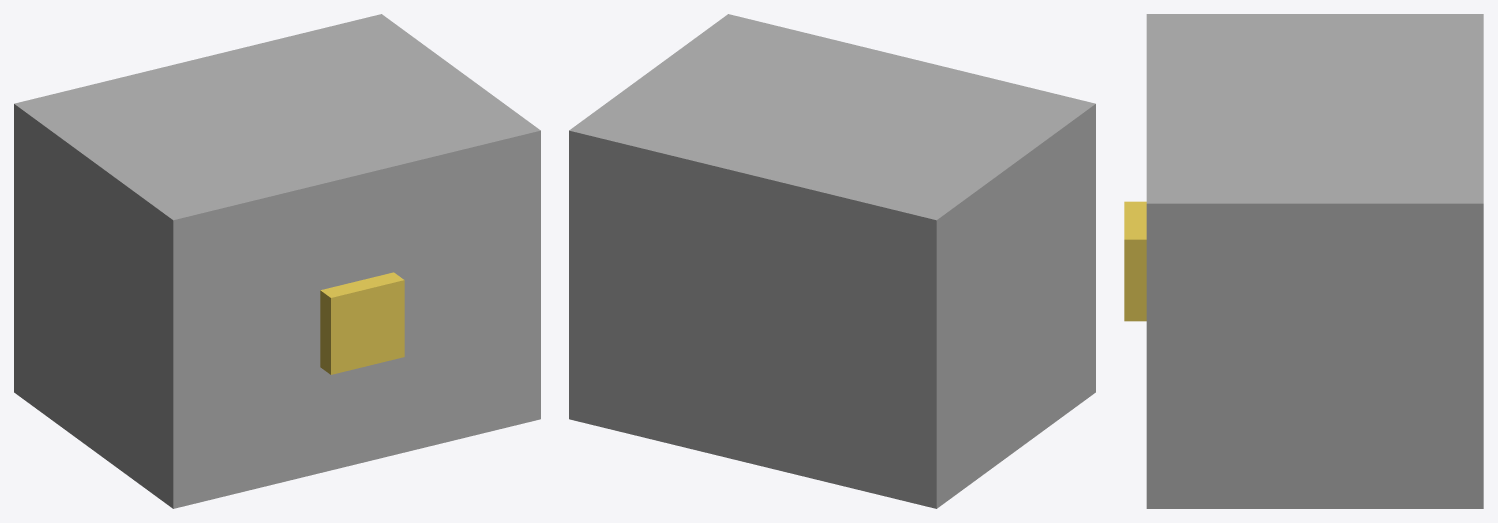
Rendered from locked_container.glb.
The picture shows the model from 3 angles, left to right: view 1: azimuth 30°, elevation 25°; view 2: azimuth 150°, elevation 25°; view 3: azimuth 270°, elevation 25°; orthographic projection. The views are drawn at different scales.
Visible parts, largest first — view 1: box, lock; view 2: box; view 3: box, lock.
Boxes of the visible parts, x1,y1,x2,y2 form: box: (14,14,540,508); lock: (320,272,404,374); box: (569,14,1095,508); box: (1146,14,1483,508); lock: (1124,201,1146,321).
Size of the model in its own units: 0.7998 by 0.6001 by 0.6401.
